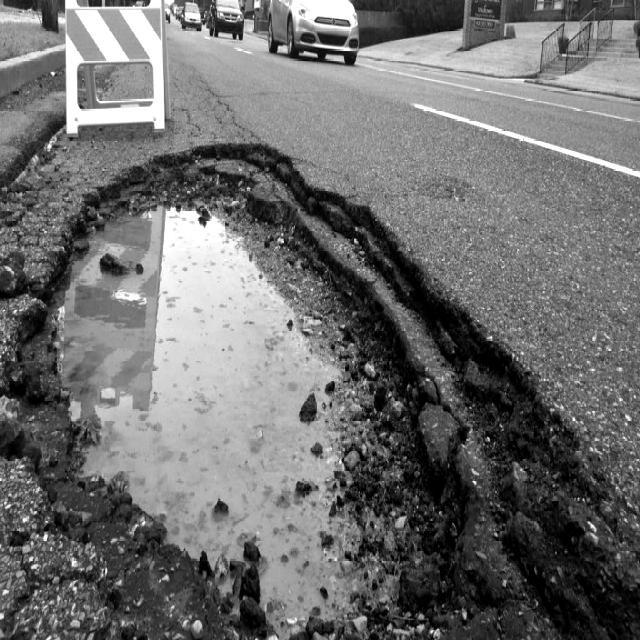pathole: (0, 140, 640, 640)
